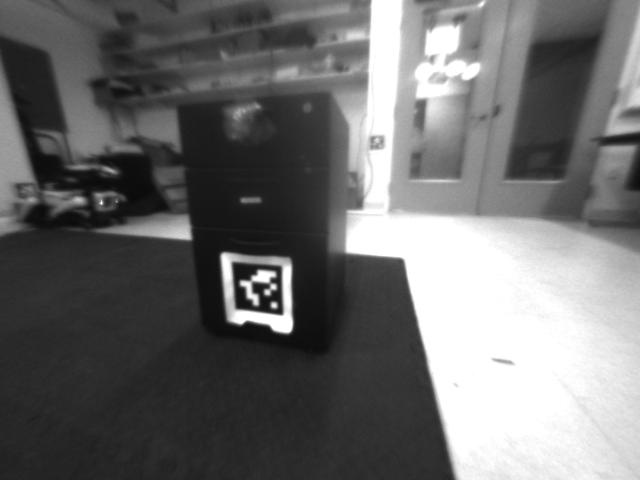door_handle: (466, 109, 489, 124)
drawer: (219, 100, 277, 148)
